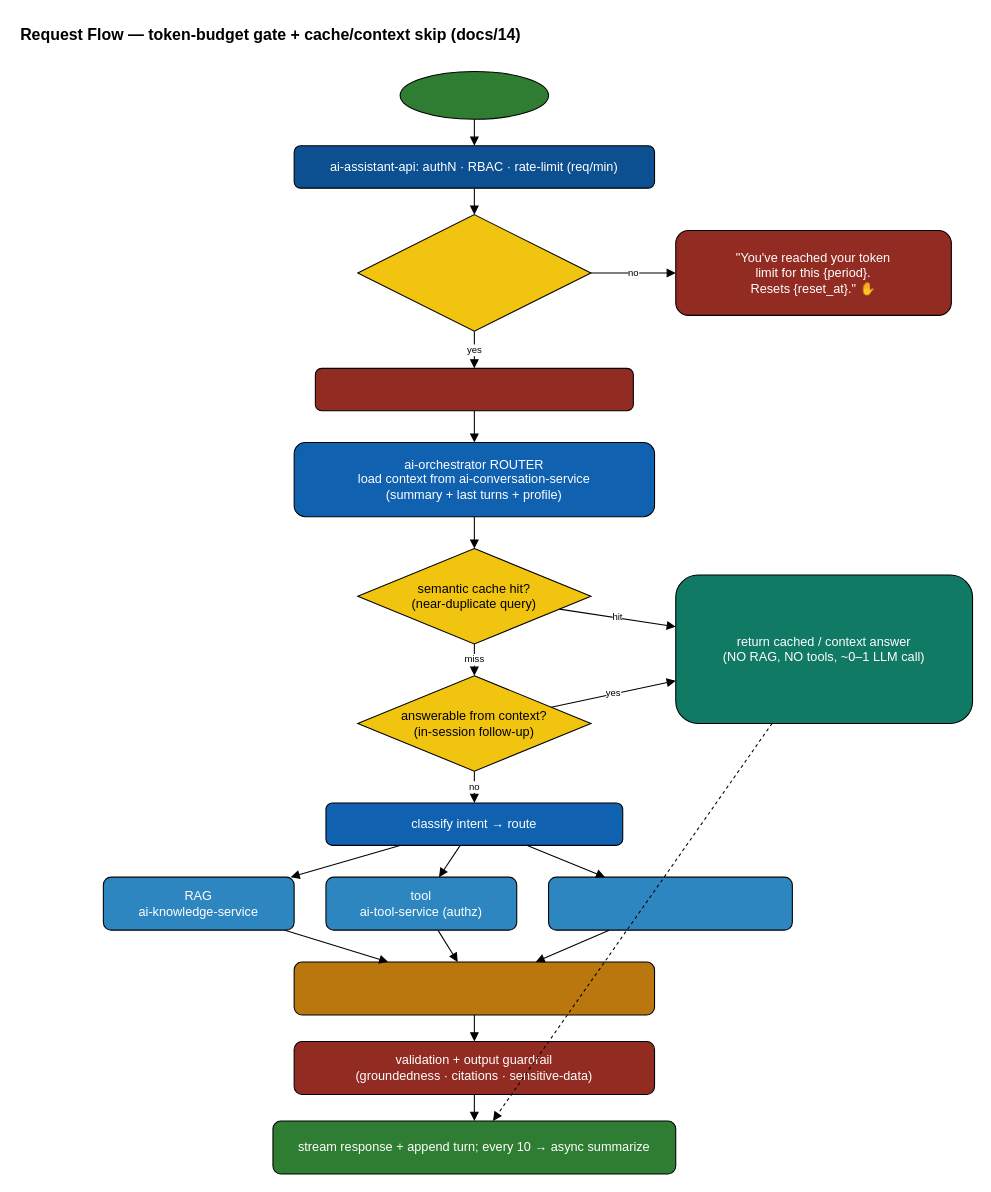
Image size: 991x1192. Some labels were removed from this diagram. Here are the shapes that lost their labels. From the top down, the box of each, then its label:
(399, 70, 549, 119): user message
(357, 214, 591, 331): TOKEN BUDGET check (Redis via ai-conversation-service) remaining > 0 ?
(314, 367, 633, 411): input guardrail (prompt-injection screen)
(547, 876, 792, 930): research (RLM) decompose→fan-out→aggregate
(293, 961, 655, 1015): LLM via ai-model-gateway → POST: record tokens (Redis + ledger)
